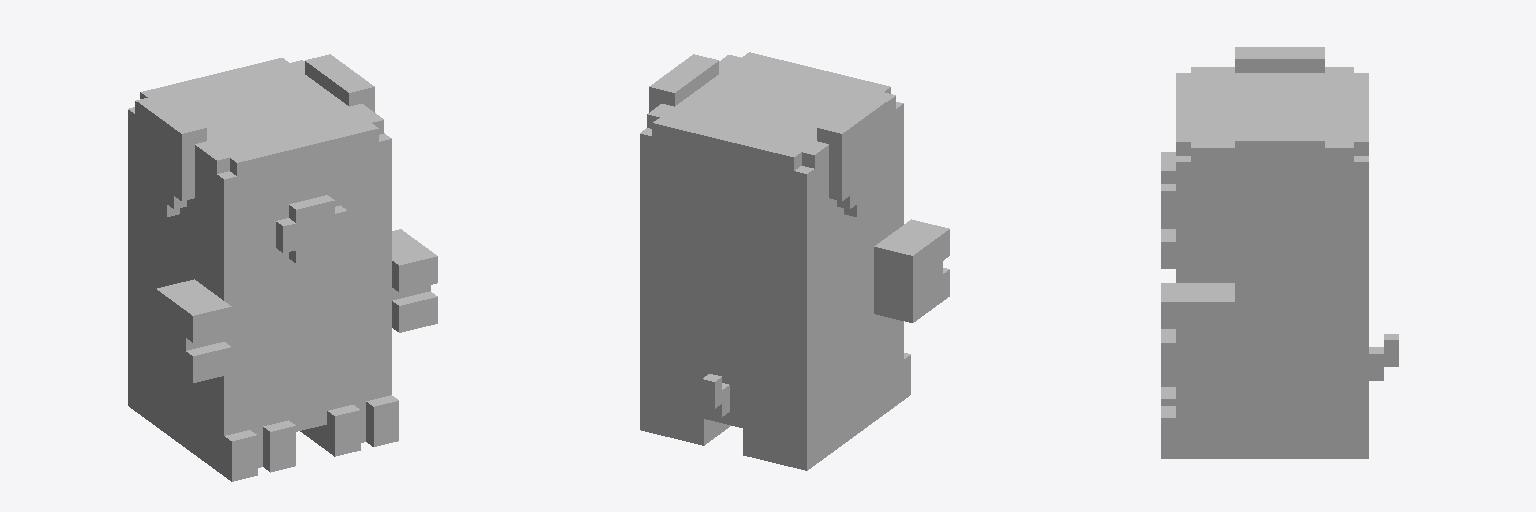
Rendered from Package 01 Necro Dungeon-15.obj.
3 renders of one model, left to right at view 1: azimuth 30°, elevation 25°; view 2: azimuth 150°, elevation 25°; view 3: azimuth 270°, elevation 25°, orthographic.
Parts seen in each view (by area): view 1: object 1; view 2: object 1; view 3: object 1.
Part boxes in pixels (bbox=[...]): object 1: bbox=[128, 54, 437, 481]; object 1: bbox=[640, 52, 949, 470]; object 1: bbox=[1161, 47, 1398, 458].
Size of the model in its own units: 1.9 by 2.4 by 1.6.